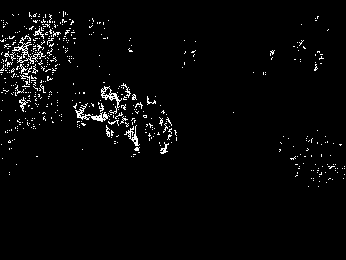person: (143, 94, 177, 156), (116, 82, 139, 150), (99, 86, 116, 139)
